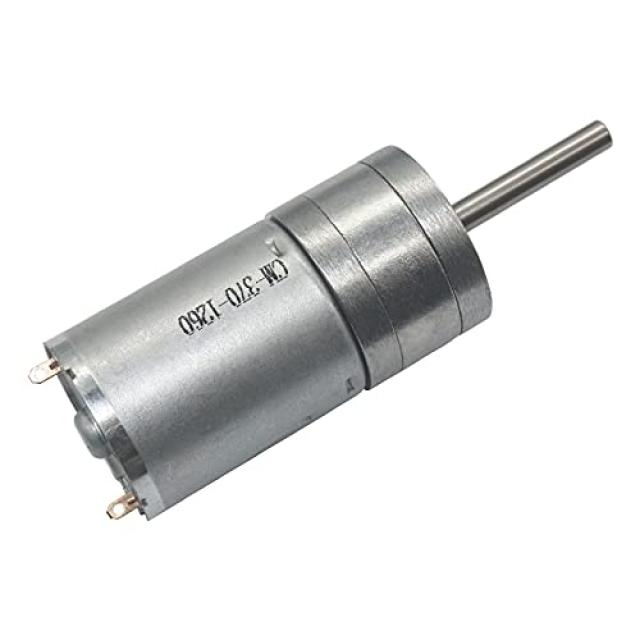motor: (80, 114, 616, 533)
